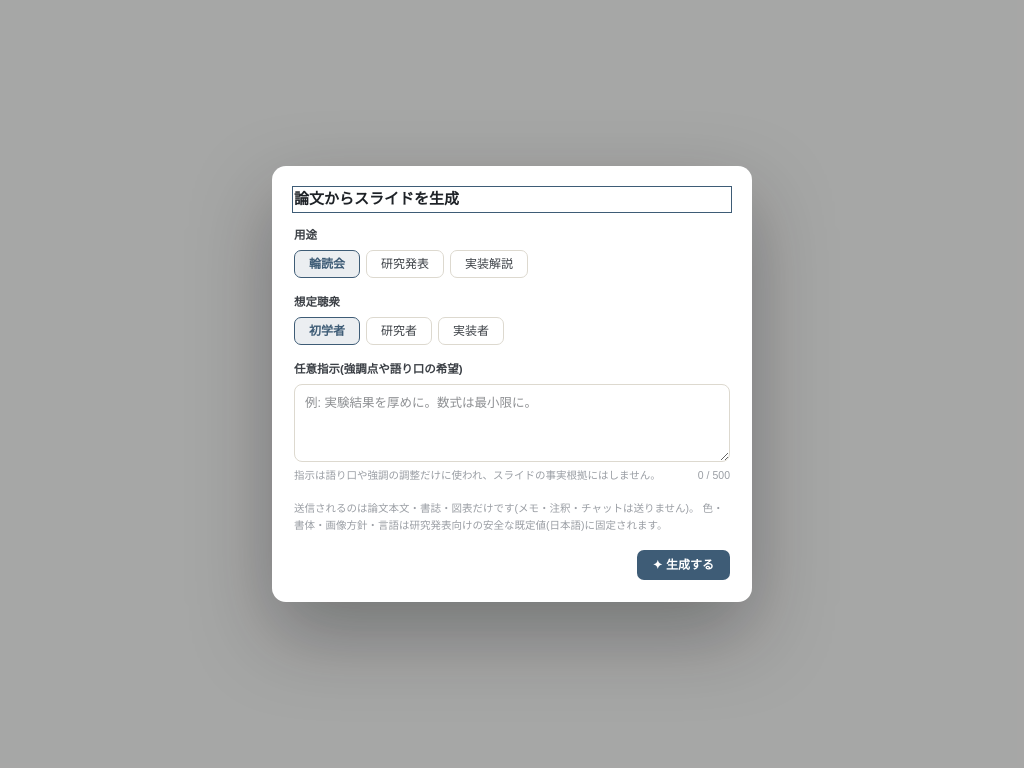
it: PresentationDialog (Task 30 §4/§5) › 生成開始で選択中の用途・聴衆・指示を送信し、進捗表示へ切り替わる
Click the radio button labelled "研究発表". click: (405, 264)
box: top-left (366, 250), bottom-right (444, 278)
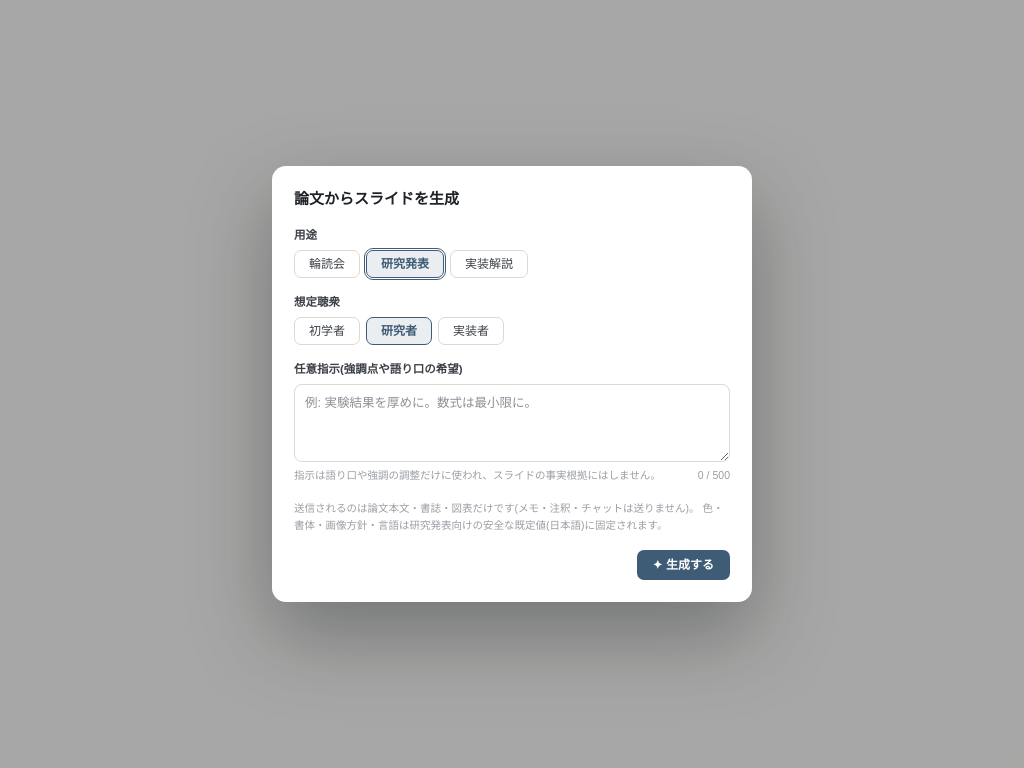
Click the button "✦ 生成する". click: (683, 565)
box: top-left (637, 550), bottom-right (730, 580)
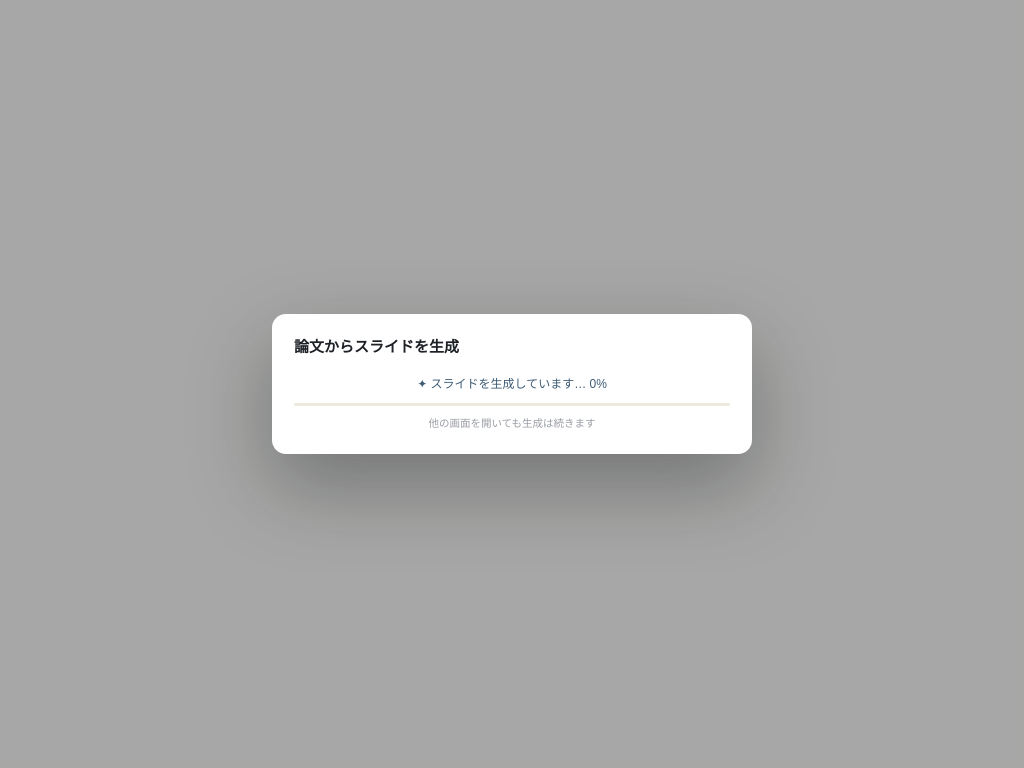
Result: the button "生成する" is gone
Result: the text "✦ スライドを生成しています… 0%" is shown at top-left (417, 375), bottom-right (607, 393)
